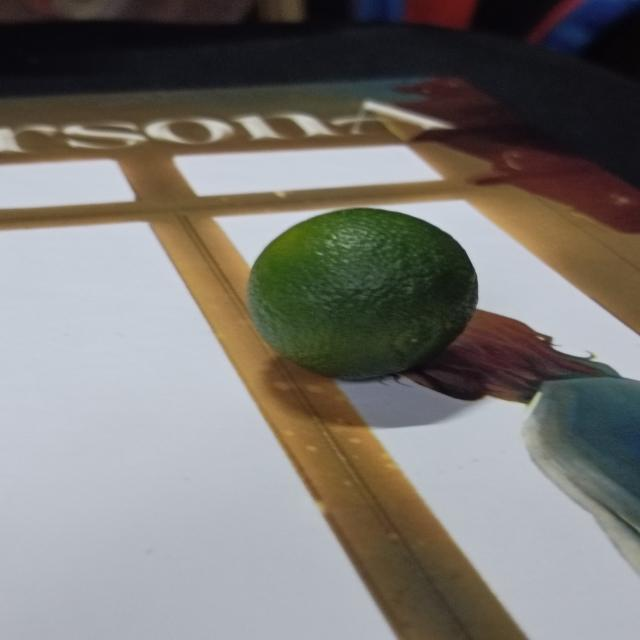heathy: (248, 205, 490, 383)
